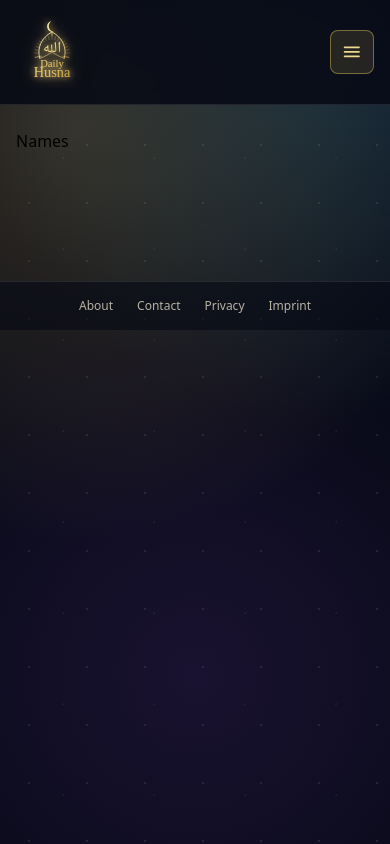
it: AppShell › keeps English content routes bound to the English navigation when the route is English
Click the button named "Open menu": [352, 52] box [330,30,374,74]
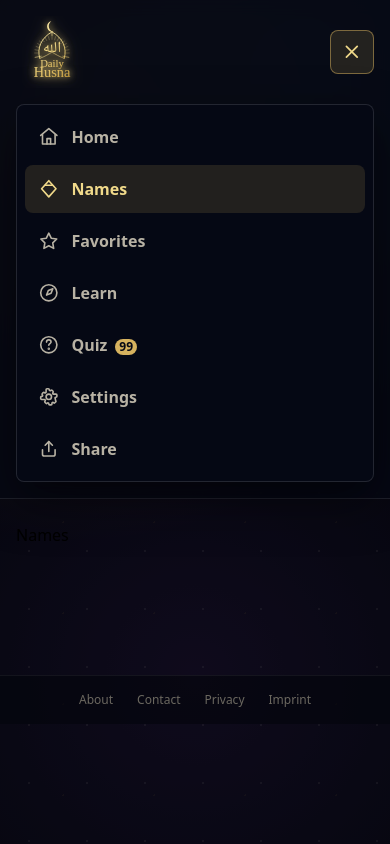
Check: the number of links "Names" is 2
